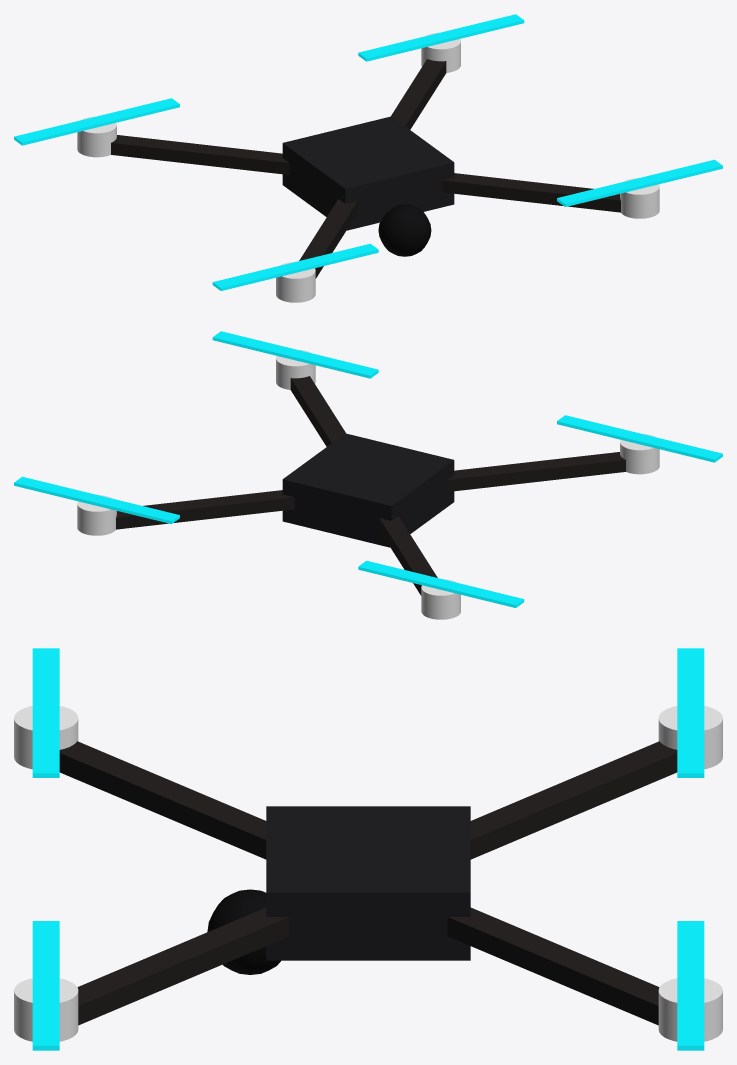
File: drone.glb
3 views of the same model, one above another, from view 1: azimuth 30°, elevation 25°; view 2: azimuth 150°, elevation 25°; view 3: azimuth 270°, elevation 25° (orthographic). The views are drawn at different scales.
Bounding box in the file's own units: 1 × 0.1457 × 0.7543.
